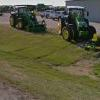Tractor: (55, 3, 100, 52)
